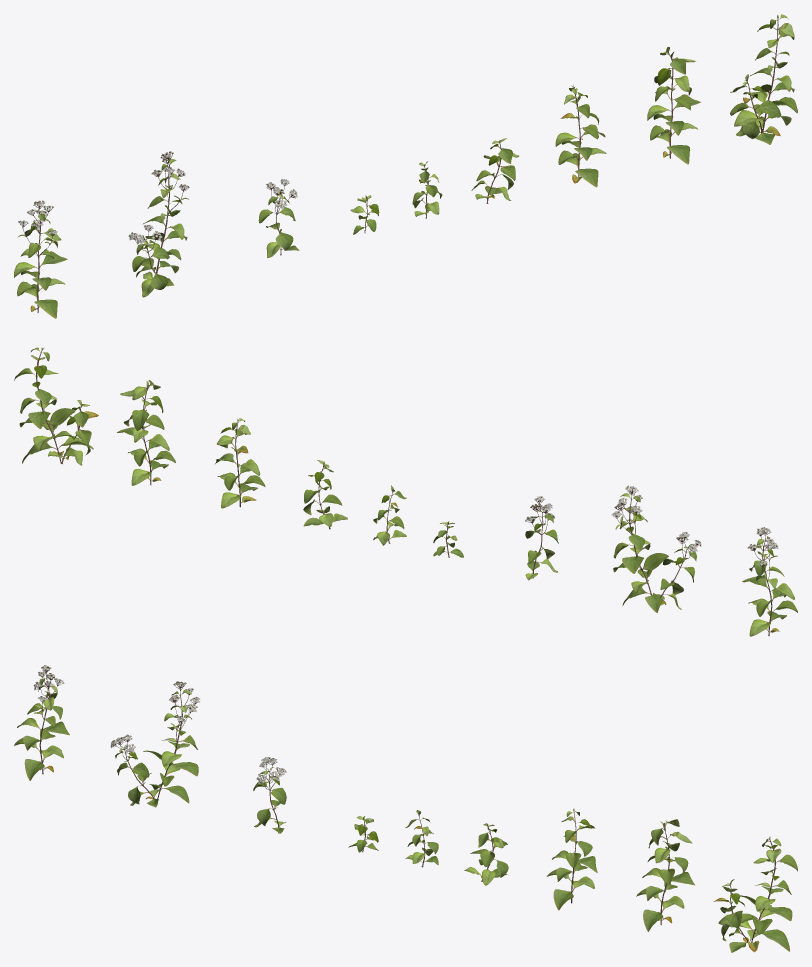
File: shrub_01.glb
3 renders of one model, top to bottom at view 1: azimuth 30°, elevation 25°; view 2: azimuth 150°, elevation 25°; view 3: azimuth 330°, elevation 25°, orthographic. The views are drawn at different scales.
Parts seen in each view (by area): view 1: shrub_01_a; view 2: shrub_01_a; view 3: shrub_01_a.
Part boxes in pixels (<box>): shrub_01_a: <box>14,14,797,318</box>; shrub_01_a: <box>14,347,797,636</box>; shrub_01_a: <box>14,665,797,952</box>.
Size of the model in its own units: 2.59 by 0.396 by 0.2186.
Materials: 1 (1 with a texture image).
